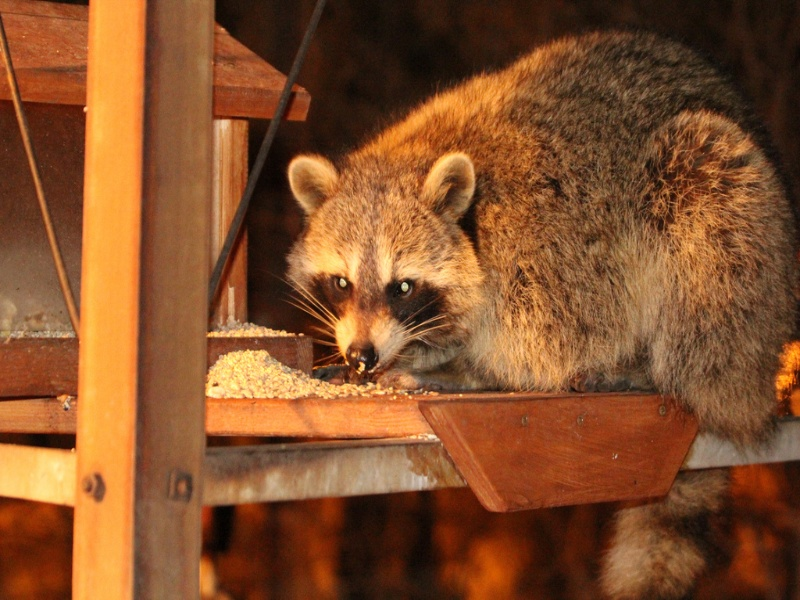raccoon: (286, 25, 793, 597)
